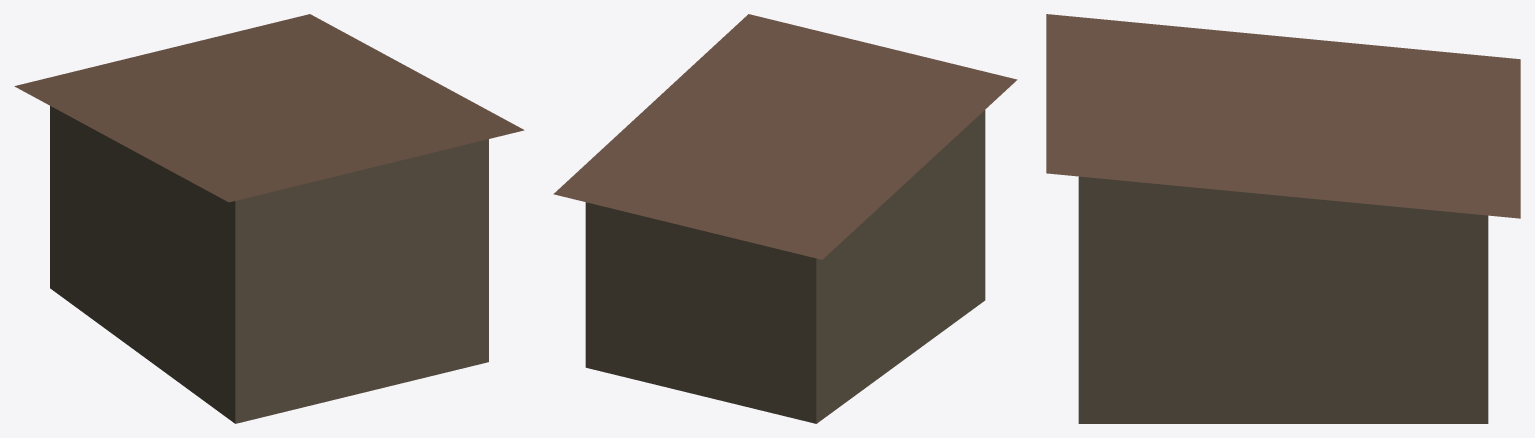
The model's file is fill1_far.fbx.
3 views of the same model, side by side, from view 1: azimuth 30°, elevation 25°; view 2: azimuth 150°, elevation 25°; view 3: azimuth 270°, elevation 25° (orthographic). The views are drawn at different scales.
Visible parts, largest first — view 1: a2014/0/fill1_far; view 2: a2014/0/fill1_far; view 3: a2014/0/fill1_far.
Part boxes in pixels (x1,y1,x2,y2): a2014/0/fill1_far: (14, 14, 524, 423); a2014/0/fill1_far: (553, 14, 1017, 423); a2014/0/fill1_far: (1046, 14, 1520, 423).
Bounding box in the file's own units: 3.5 × 2.68 × 4.4.
